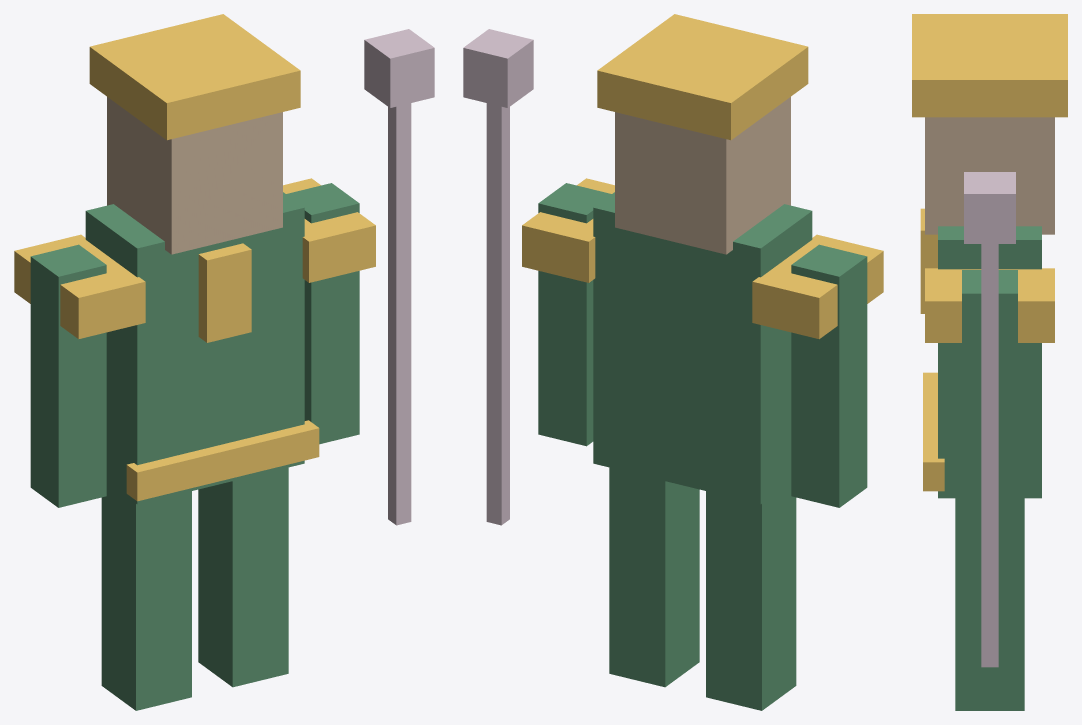
File: 16_orin_starfall_specialist_under.glb
The picture shows the model from 3 angles, left to right: view 1: azimuth 30°, elevation 25°; view 2: azimuth 150°, elevation 25°; view 3: azimuth 270°, elevation 25°; orthographic projection.
Parts seen in each view (by area): view 1: Orin Starfall, Specialist under; view 2: Orin Starfall, Specialist under; view 3: Orin Starfall, Specialist under.
Boxes of the visible parts, x1,y1,x2,y2 form: Orin Starfall, Specialist under: (14, 14, 434, 710); Orin Starfall, Specialist under: (463, 14, 883, 710); Orin Starfall, Specialist under: (912, 14, 1067, 710).
Bounding box in the file's own units: 1.03 × 1.61 × 0.3637.
